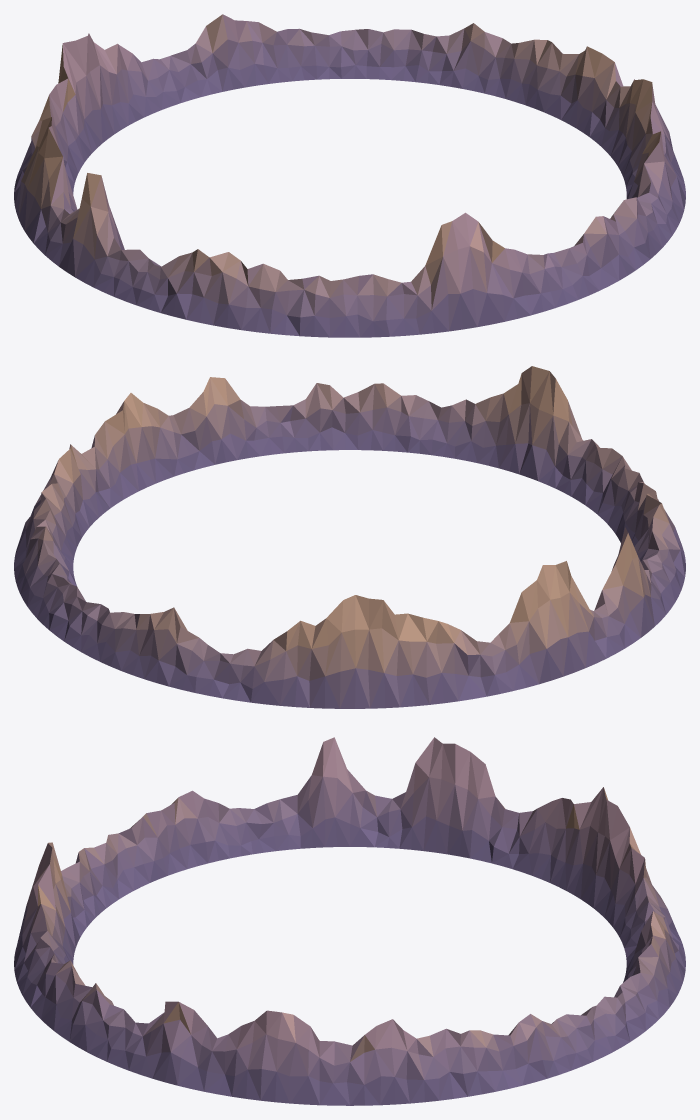
The model's file is mountains_ring.glb.
The picture shows the model from 3 angles, top to bottom: view 1: azimuth 30°, elevation 25°; view 2: azimuth 150°, elevation 25°; view 3: azimuth 270°, elevation 25°; orthographic projection.
Visible parts, largest first — view 1: mountains_ring; view 2: mountains_ring; view 3: mountains_ring.
Part boxes in pixels (box(x1,y1,x2,y2)): mountains_ring: box(14, 14, 685, 337); mountains_ring: box(14, 366, 685, 708); mountains_ring: box(14, 737, 685, 1105).
Size of the model in its own units: 170 by 28 by 170.
